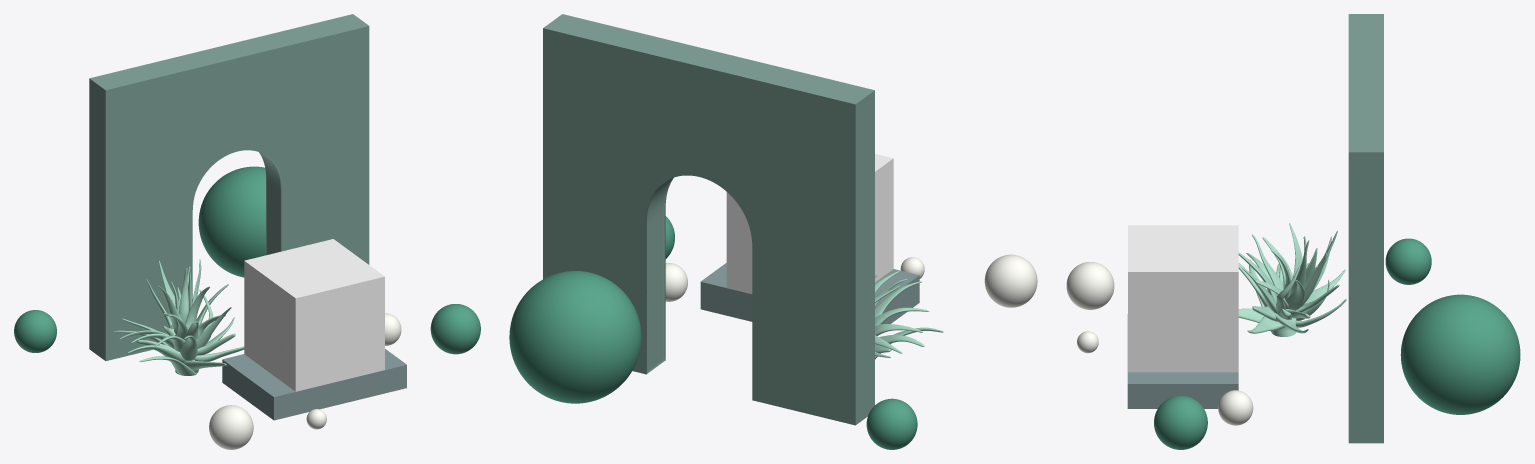
File: podium_arch_turquoise.glb
The picture shows the model from 3 angles, left to right: view 1: azimuth 30°, elevation 25°; view 2: azimuth 150°, elevation 25°; view 3: azimuth 270°, elevation 25°; orthographic projection. The views are drawn at different scales.
Visible parts, largest first — view 1: Podium, placeholder, SphereDense2, Tree, InsteadScene, SphereDense1, SphereTransparent1, SphereDense3; view 2: Podium, SphereDense2, placeholder, InsteadScene, SphereTransparent1, SphereDense3, Tree, SphereTransparent3; view 3: placeholder, Podium, SphereDense2, Tree, InsteadScene, SphereDense1, SphereTransparent1, SphereDense3, SphereTransparent3.
Boxes of the visible parts, x1=… form: Podium: x1=89, y1=14, x2=369, y2=360; placeholder: x1=244, y1=239, x2=384, y2=391; SphereDense2: x1=198, y1=166, x2=265, y2=277; Tree: x1=113, y1=259, x2=244, y2=375; InsteadScene: x1=222, y1=349, x2=406, y2=420; SphereDense1: x1=430, y1=304, x2=480, y2=354; SphereTransparent1: x1=209, y1=405, x2=253, y2=449; SphereDense3: x1=14, y1=310, x2=56, y2=352; Podium: x1=543, y1=14, x2=874, y2=425; SphereDense2: x1=509, y1=271, x2=641, y2=403; placeholder: x1=726, y1=154, x2=893, y2=293; InsteadScene: x1=700, y1=263, x2=919, y2=324; SphereTransparent1: x1=984, y1=254, x2=1037, y2=307; SphereDense3: x1=866, y1=398, x2=917, y2=449; Tree: x1=875, y1=271, x2=943, y2=359; SphereTransparent3: x1=665, y1=263, x2=687, y2=301; placeholder: x1=1128, y1=225, x2=1238, y2=372; Podium: x1=1348, y1=14, x2=1383, y2=443; SphereDense2: x1=1400, y1=294, x2=1520, y2=414; Tree: x1=1238, y1=223, x2=1346, y2=336; InsteadScene: x1=1127, y1=314, x2=1238, y2=408; SphereDense1: x1=1154, y1=395, x2=1207, y2=449; SphereTransparent1: x1=1066, y1=262, x2=1114, y2=309; SphereDense3: x1=1385, y1=238, x2=1431, y2=284; SphereTransparent3: x1=1218, y1=390, x2=1253, y2=425.
Size of the model in its own units: 2.48 by 1.81 by 2.56.
